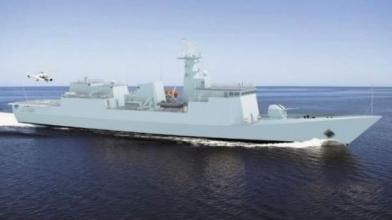airplane: (26, 68, 55, 87)
warship: (13, 57, 383, 142)
